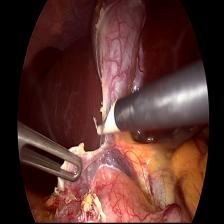Grasper: (14, 124, 84, 187)
Hook: (90, 96, 120, 140)
